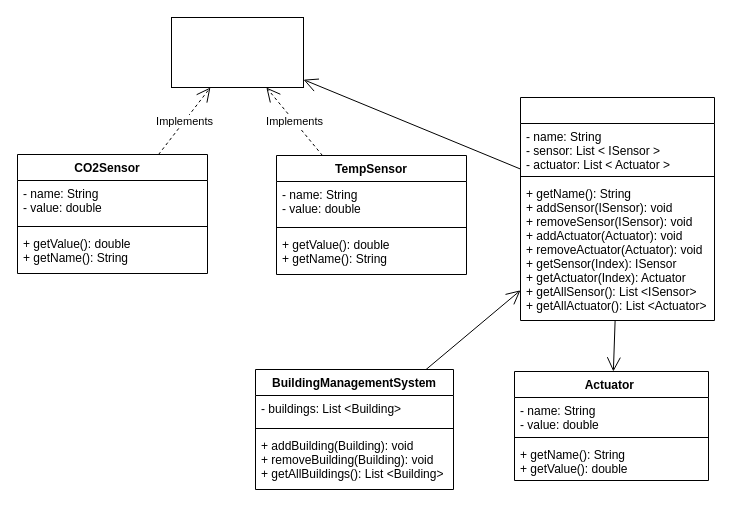
Some shapes in this 732 by 510 pixel diagram are drawn without their labels. Each missing label, with the box of its shape:
Building: (520, 96, 714, 320)
«interface» ISensor getName() getValue(): (170, 16, 304, 88)
